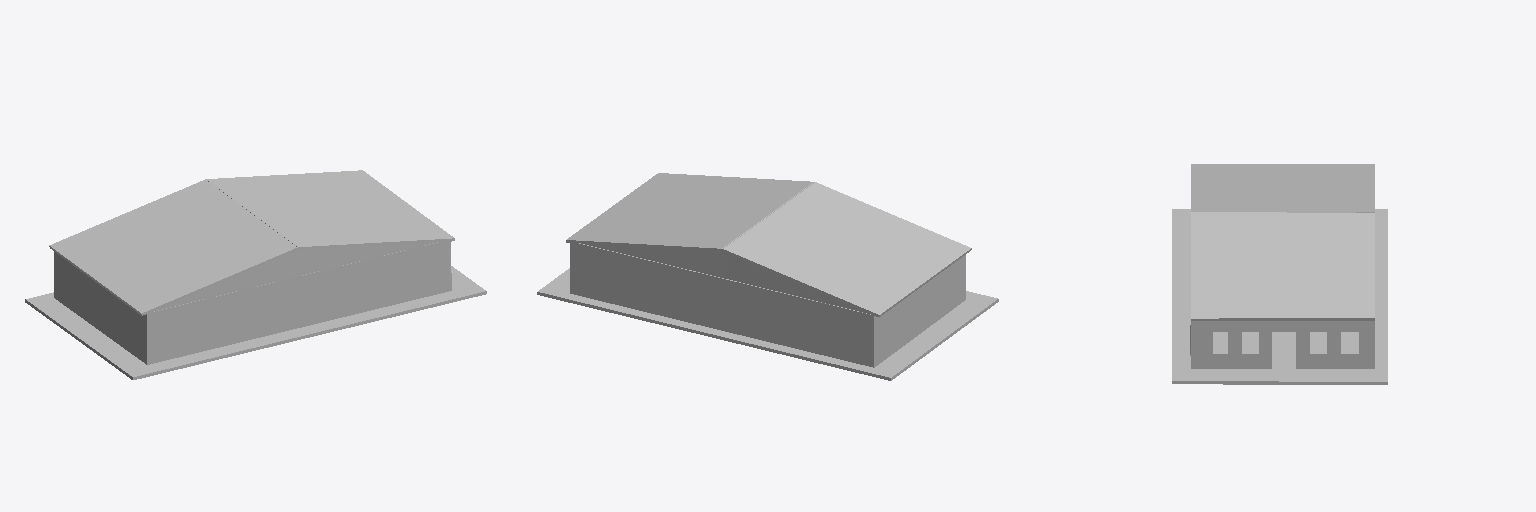
File: versao_final2.obj
3 views of the same model, side by side, from view 1: azimuth 30°, elevation 25°; view 2: azimuth 150°, elevation 25°; view 3: azimuth 270°, elevation 25° (orthographic).
Parts seen in each view (by area): view 1: Cubo.002_Cubo.001, Cubo.003_Cubo.001; view 2: Cubo.002_Cubo.001, Cubo.003_Cubo.001; view 3: Cubo.002_Cubo.001.
Boxes of the visible parts, box(x1,y1,x2,y2) form: Cubo.002_Cubo.001: box(25, 170, 486, 379); Cubo.003_Cubo.001: box(54, 252, 149, 364); Cubo.002_Cubo.001: box(537, 173, 998, 380); Cubo.003_Cubo.001: box(872, 255, 965, 367); Cubo.002_Cubo.001: box(1172, 164, 1387, 384).
Size of the model in its own units: 24.84 by 5.73 by 13.09.